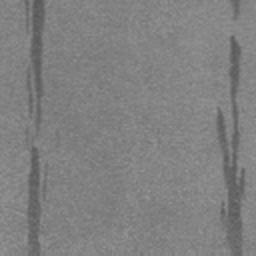Red iron sheet: (214, 33, 247, 256), (23, 0, 46, 136), (24, 146, 42, 256), (227, 0, 241, 22)
